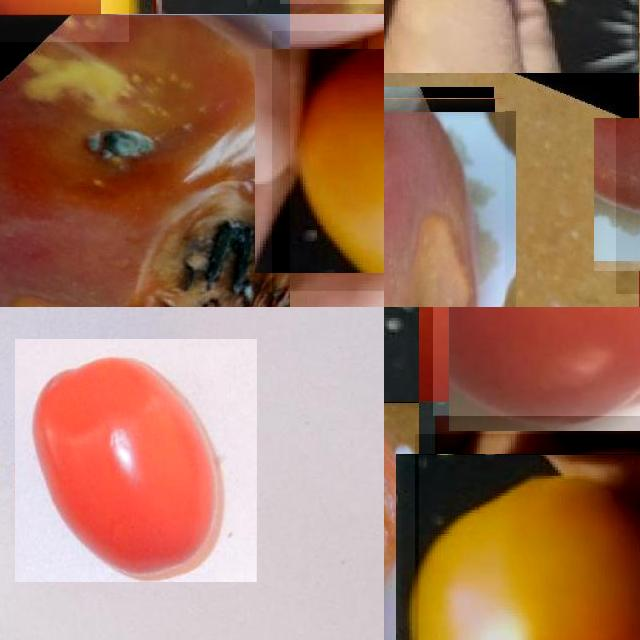0: (15, 339, 257, 582)
Fresh Tomato: (415, 434, 640, 640), (433, 307, 640, 416)
Rotten Tomato: (0, 14, 290, 307), (272, 31, 384, 291), (384, 98, 505, 307)
